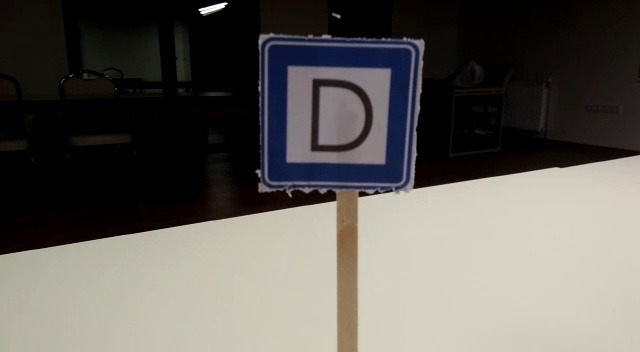durak: (261, 40, 423, 190)
